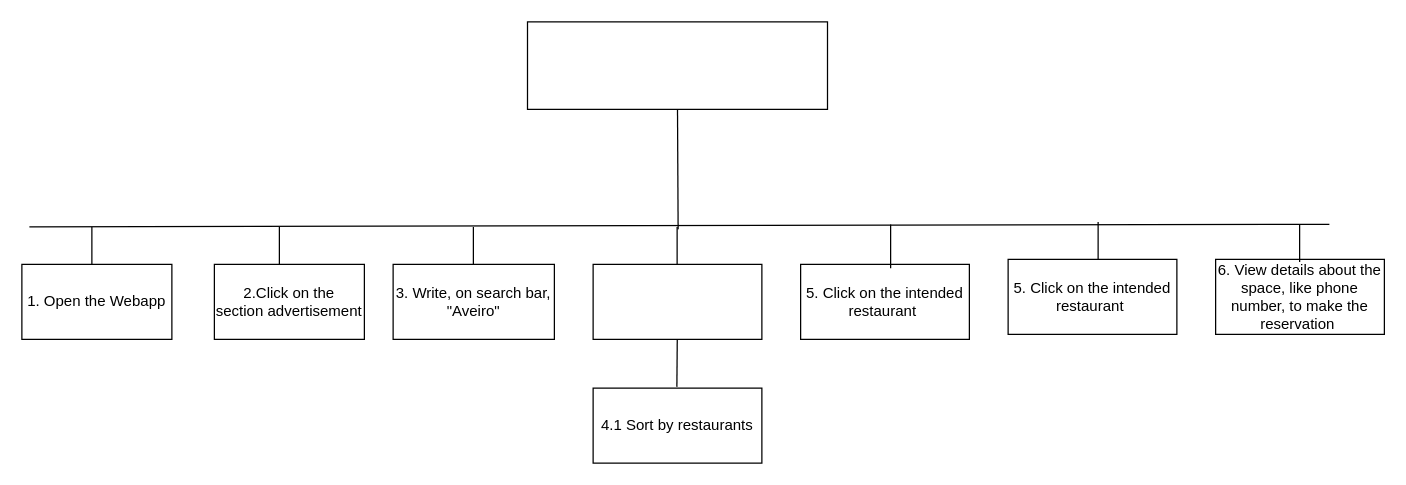
The diagram is 1406 pixels wide and 485 high, and some of its shapes have lost their labels. Here are the shapes that lost their labels. From the top down, the centre of each, then its label:
At pixel 677 65: "Make a restaurant reservation".
At pixel 677 301: "4. View advertisements".
